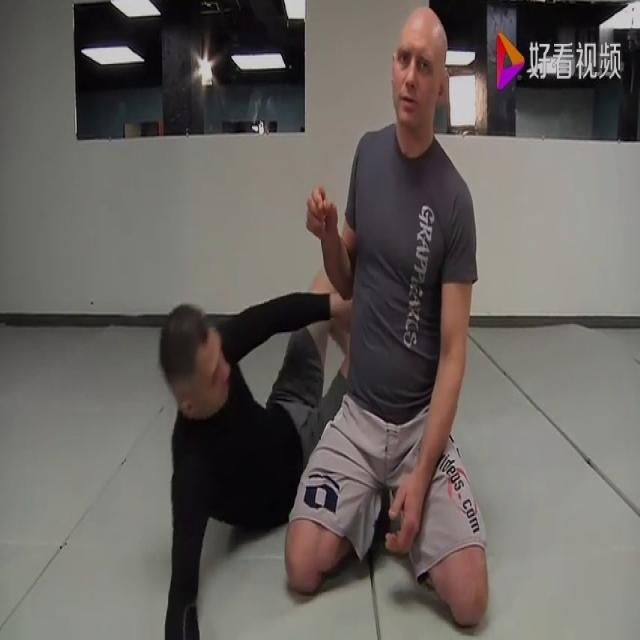fight: (154, 0, 496, 639)
